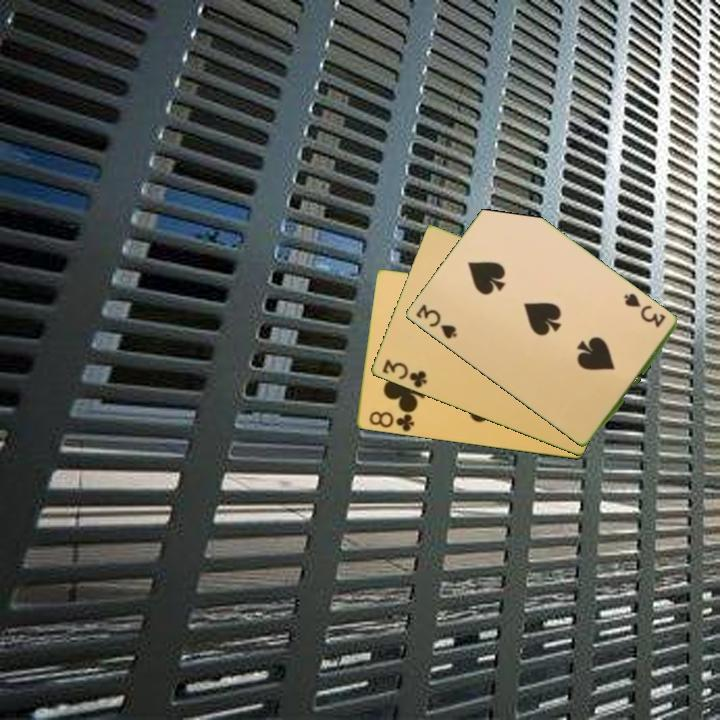3c: (378, 355, 430, 391)
3s: (412, 301, 460, 342), (621, 290, 668, 331)
8c: (365, 408, 417, 434)
